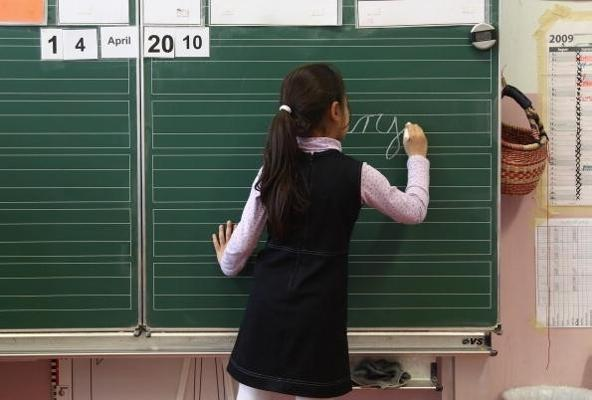person: (214, 63, 430, 400)
